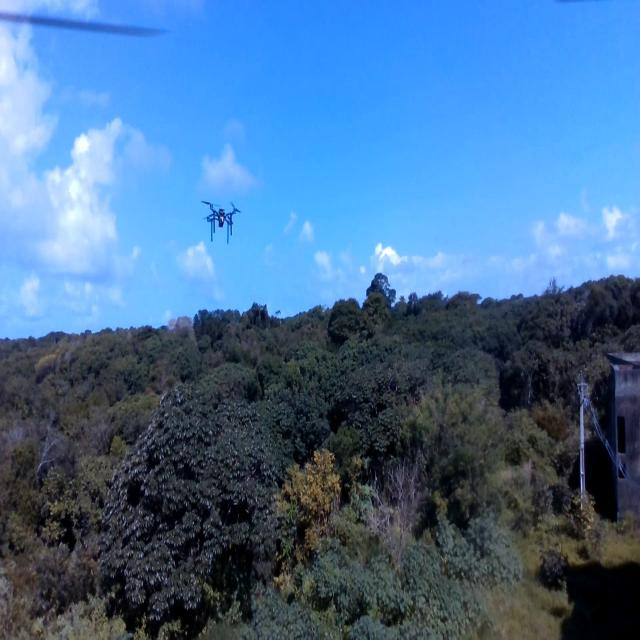-uav-: (195, 179, 249, 258)
